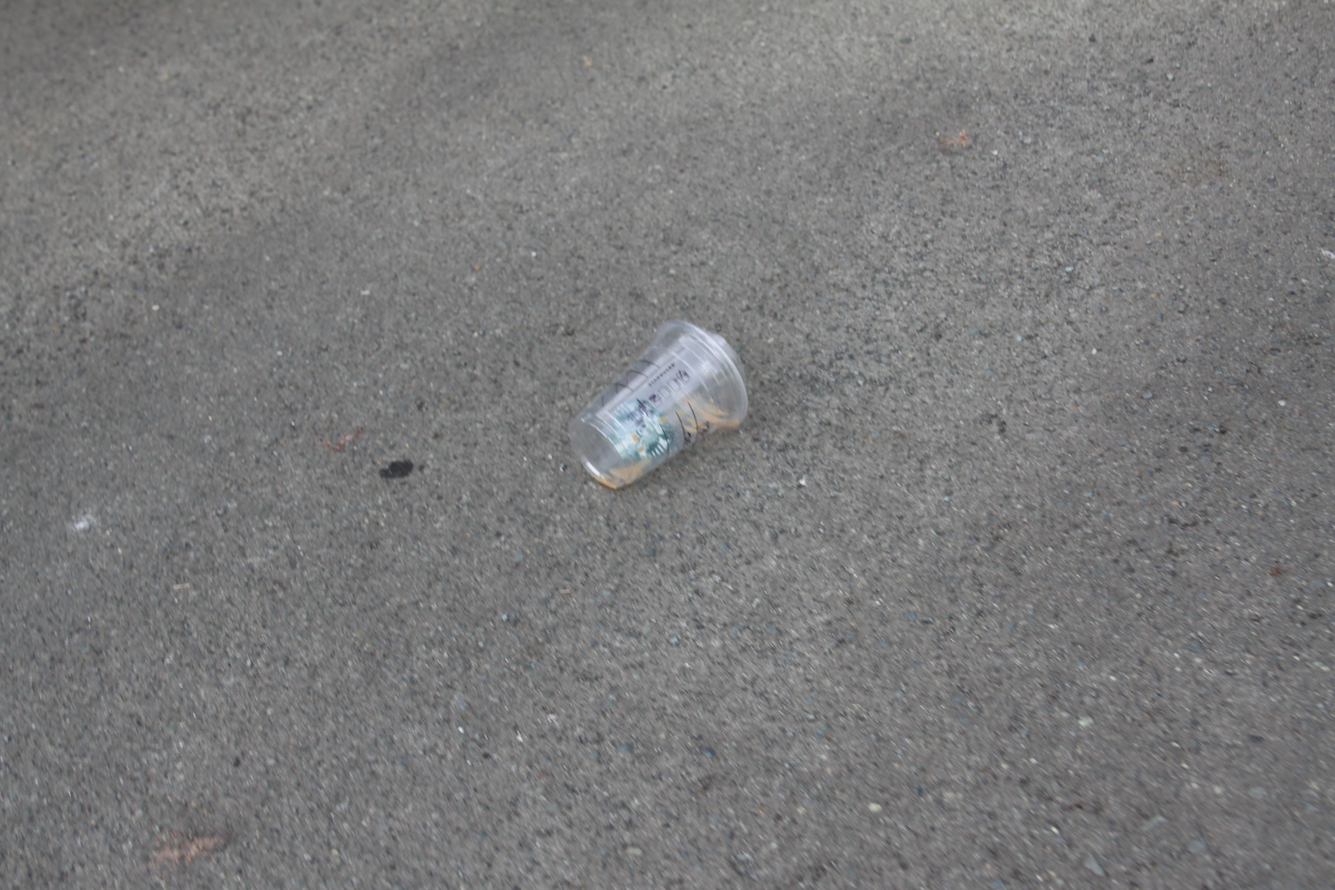Plastic: (567, 318, 749, 490)
